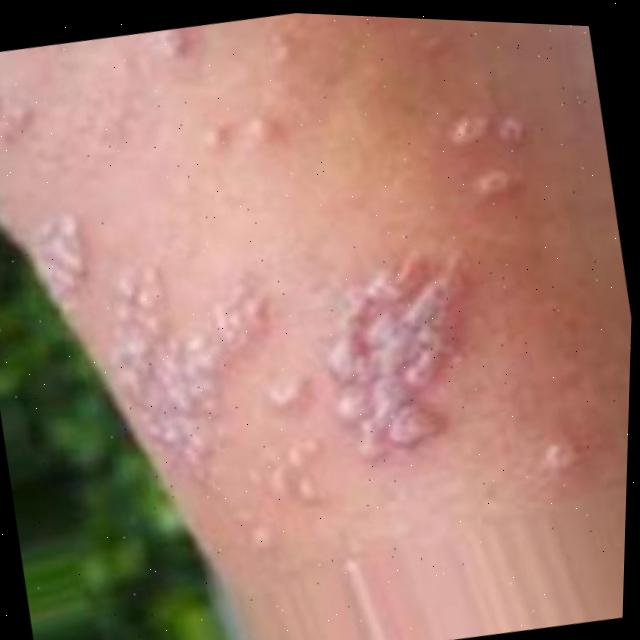Shingles: (0, 153, 349, 599), (297, 225, 510, 473), (450, 94, 539, 205), (541, 436, 585, 483), (148, 25, 196, 68)
